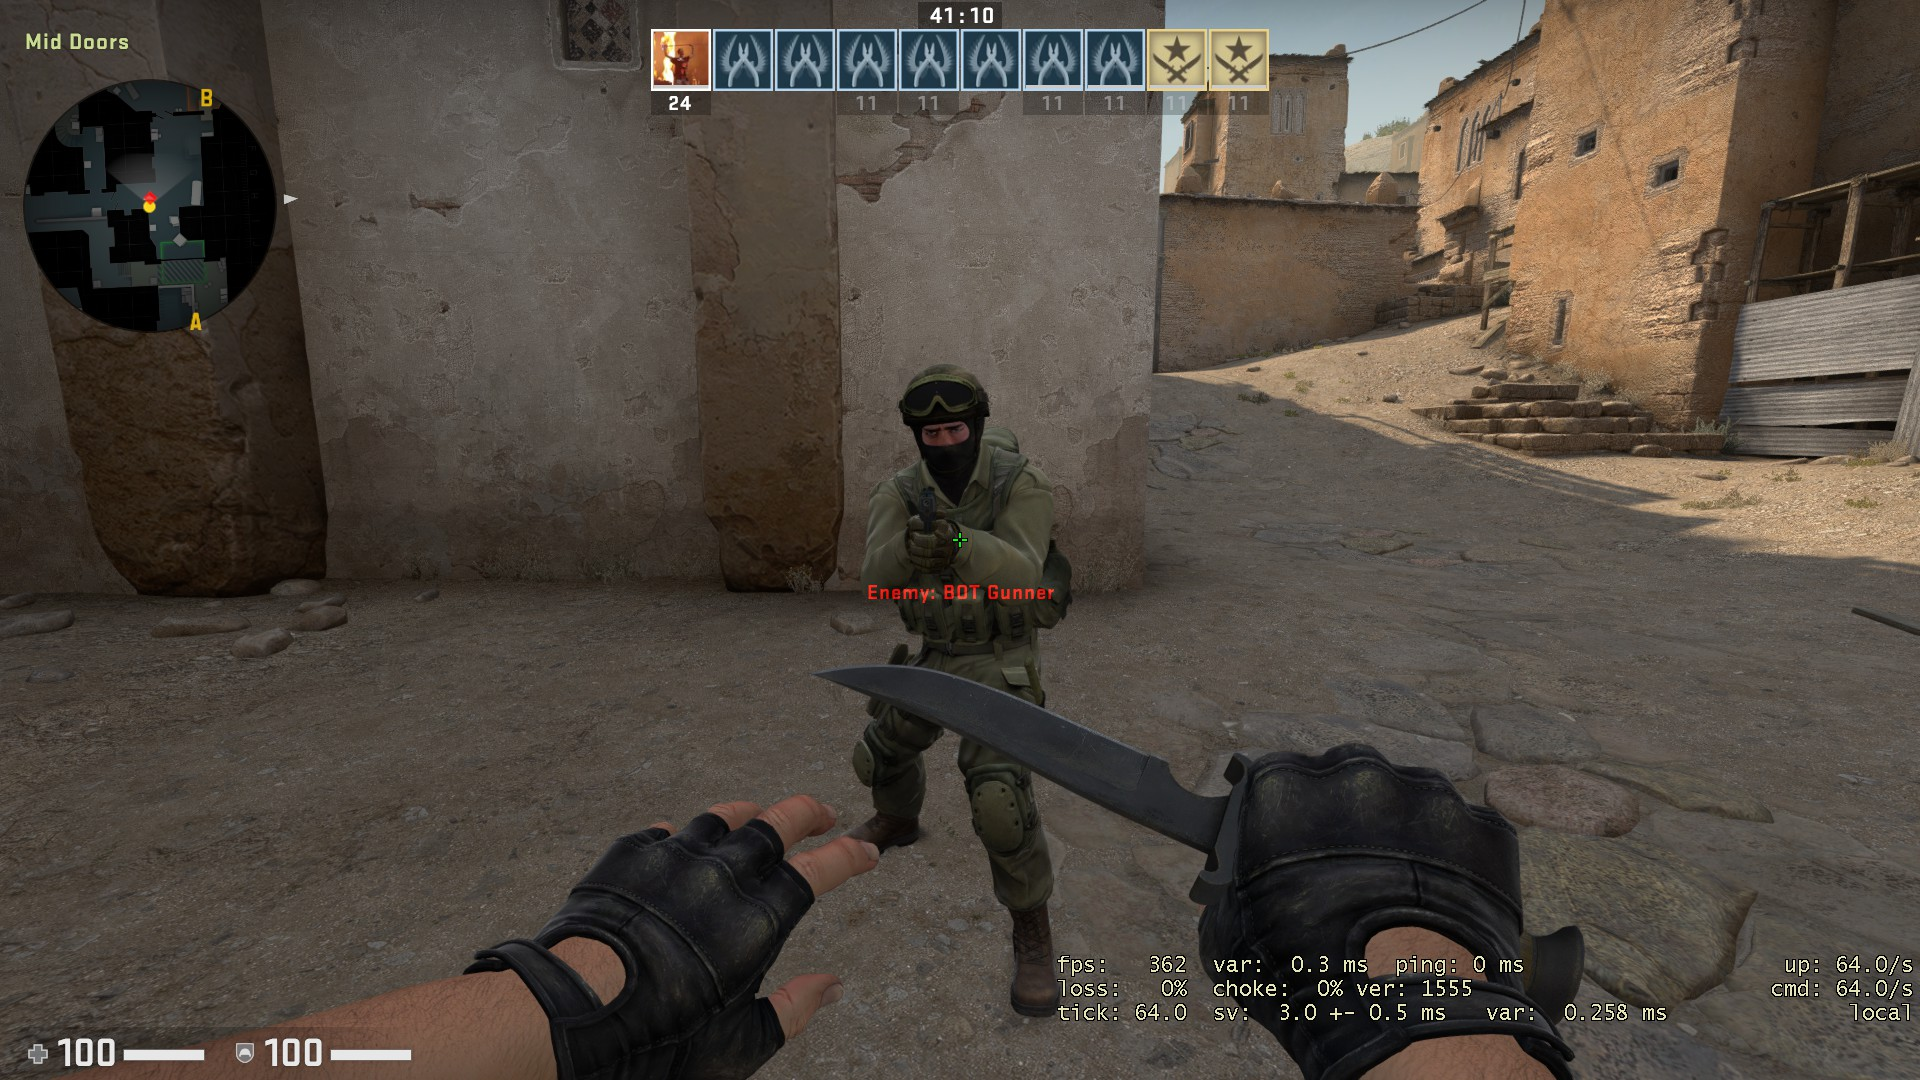player: (825, 355, 1077, 1028)
